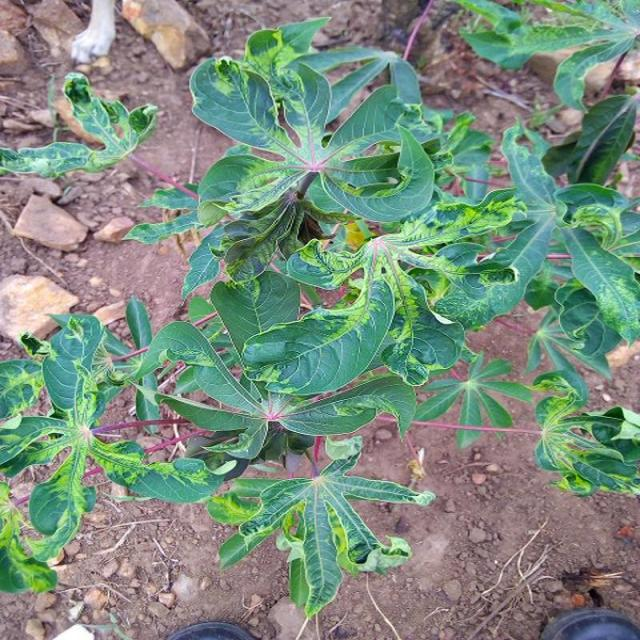cassava leaf: (0, 12, 638, 620), (242, 274, 395, 397)
